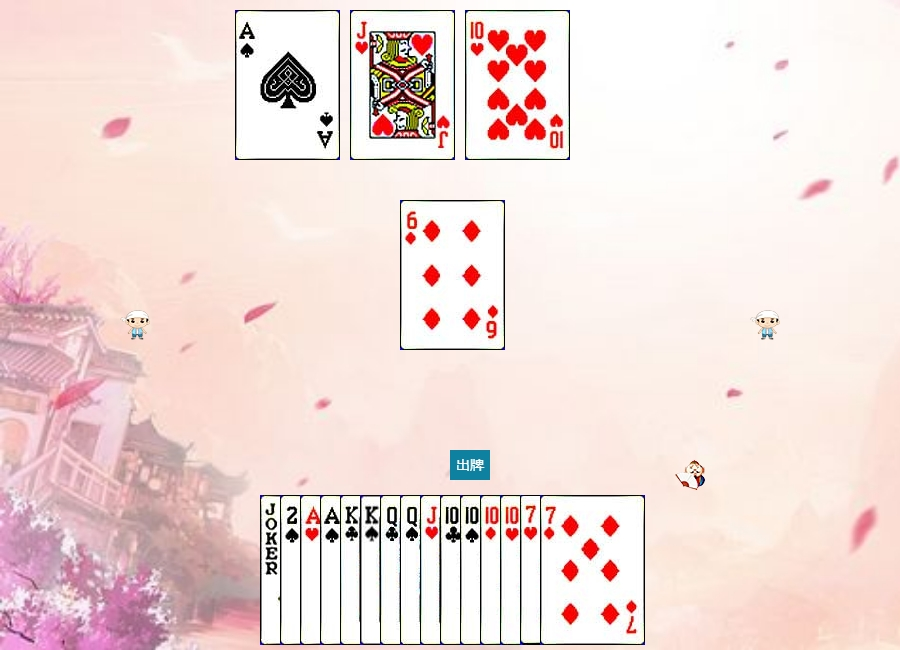10~1: (480, 495, 585, 645)
10~2: (440, 495, 545, 645)
10~3: (465, 10, 570, 160), (500, 495, 605, 645)
10~4: (460, 495, 565, 645)
11~3: (350, 10, 455, 160), (420, 495, 525, 645)
12~2: (380, 495, 485, 645)
12~4: (400, 495, 505, 645)
13~2: (340, 495, 445, 645)
13~4: (360, 495, 465, 645)
14~3: (300, 495, 405, 645)
14~4: (235, 10, 340, 160), (320, 495, 425, 645)
15~4: (280, 495, 385, 645)
17~3: (260, 495, 365, 645)
6~1: (400, 200, 505, 350)
7~1: (540, 495, 645, 645)
7~3: (520, 495, 625, 645)
